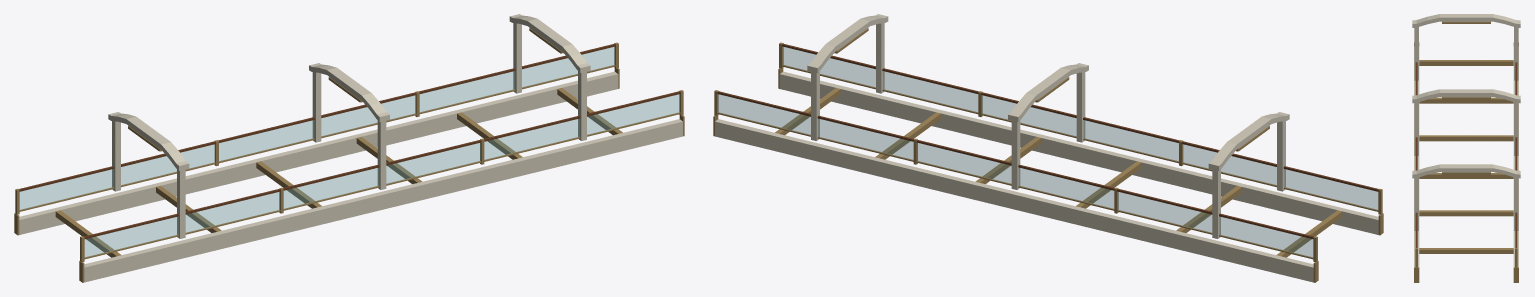
Rendered from AST-CUL-005_bridge_002.glb.
3 renders of one model, left to right at view 1: azimuth 30°, elevation 25°; view 2: azimuth 150°, elevation 25°; view 3: azimuth 270°, elevation 25°, orthographic. The views are drawn at different scales.
Visible parts, largest first — view 1: TB_AFT_SIDE_BEAM, TB_FORE_SIDE_BEAM, TB_AFT_GLASS_4, TB_FORE_GLASS_2, TB_AFT_GLASS_2, TB_AFT_GLASS_3, TB_FORE_GLASS_4, TB_FORE_GLASS_0, TB_AFT_GLASS_0, TB_AFT_GLASS_1, TB_AFT_GLASS_5, TB_FORE_GLASS_3 (+17 smaller); view 2: TB_FORE_SIDE_BEAM, TB_AFT_SIDE_BEAM, TB_FORE_GLASS_4, TB_AFT_GLASS_2, TB_FORE_GLASS_2, TB_FORE_GLASS_3, TB_AFT_GLASS_4, TB_AFT_GLASS_0, TB_FORE_GLASS_0, TB_FORE_GLASS_1, TB_FORE_GLASS_5, TB_AFT_GLASS_3 (+17 smaller); view 3: TB_VAULT_1, TB_VAULT_2, TB_VAULT_0, TB_CROSS_BEAM_2, TB_CROSS_BEAM_4, TB_AFT_SIDE_BEAM, TB_FORE_SIDE_BEAM, TB_CROSS_BEAM_0, TB_CROSS_BEAM_5, TB_CROSS_BEAM_1, TB_CROSS_BEAM_3, TB_AFT_RIB_PIER_0 (+16 smaller).
Boxes of the visible parts, box(x1,y1,x2,y2) form: TB_AFT_SIDE_BEAM: box(84, 119, 682, 282); TB_FORE_SIDE_BEAM: box(19, 71, 618, 234); TB_AFT_GLASS_4: box(484, 119, 579, 159); TB_FORE_GLASS_2: box(219, 120, 313, 161); TB_AFT_GLASS_2: box(284, 168, 378, 208); TB_AFT_GLASS_3: box(386, 143, 480, 183); TB_FORE_GLASS_4: box(420, 71, 514, 112); TB_FORE_GLASS_0: box(20, 169, 113, 209); TB_AFT_GLASS_0: box(85, 217, 178, 257); TB_AFT_GLASS_1: box(186, 192, 279, 232); TB_AFT_GLASS_5: box(587, 94, 679, 134); TB_FORE_GLASS_3: box(321, 95, 415, 136); TB_FORE_SIDE_BEAM: box(715, 119, 1313, 282); TB_AFT_SIDE_BEAM: box(779, 71, 1378, 234); TB_FORE_GLASS_4: box(818, 119, 913, 159); TB_AFT_GLASS_2: box(1084, 120, 1178, 161); TB_FORE_GLASS_2: box(1019, 168, 1113, 208); TB_FORE_GLASS_3: box(917, 143, 1011, 183); TB_AFT_GLASS_4: box(883, 71, 977, 112); TB_AFT_GLASS_0: box(1284, 169, 1377, 209); TB_FORE_GLASS_0: box(1219, 217, 1312, 257); TB_FORE_GLASS_1: box(1118, 192, 1211, 232); TB_FORE_GLASS_5: box(718, 94, 810, 134); TB_AFT_GLASS_3: box(982, 95, 1076, 136); TB_VAULT_1: box(1412, 89, 1520, 103); TB_VAULT_2: box(1412, 164, 1520, 178); TB_VAULT_0: box(1412, 14, 1520, 27); TB_CROSS_BEAM_2: box(1419, 135, 1513, 141); TB_CROSS_BEAM_4: box(1419, 210, 1513, 216); TB_AFT_SIDE_BEAM: box(1414, 46, 1419, 267); TB_FORE_SIDE_BEAM: box(1513, 46, 1518, 267); TB_CROSS_BEAM_0: box(1419, 60, 1513, 65); TB_CROSS_BEAM_5: box(1419, 248, 1513, 253); TB_CROSS_BEAM_1: box(1419, 97, 1513, 103); TB_CROSS_BEAM_3: box(1419, 173, 1513, 178); TB_AFT_RIB_PIER_0: box(1414, 27, 1418, 80).
Size of the model in its own units: 30 by 4.9 by 6.1.
Materials: 5 (3 with a texture image).
